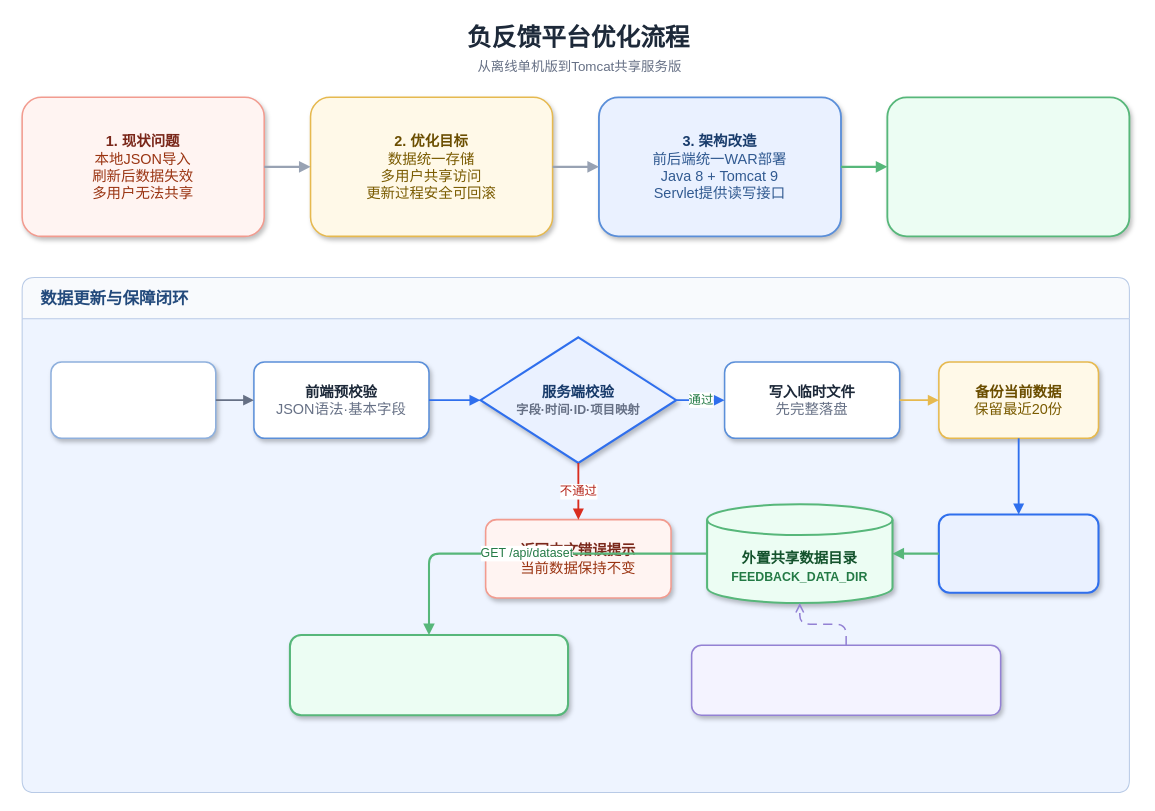
Image size: 1155x811. Some labels were removed from this diagram. The shapes that lost their labels are listed below. From the top down, each one's centre as x and y in pixels, then its label:
At pixel 1009 168: "4. 优化结果 服务器共享数据 上传即整份替换 多用户读取最新版本".
At pixel 134 401: "管理员上传 完整JSON数据集".
At pixel 1019 554: "原子替换 更新current.json".
At pixel 429 676: "多用户读取最新数据 刷新后仍保留·全员共享".
At pixel 846 681: "运维保障 健康检查·日志排查·部署回滚".
